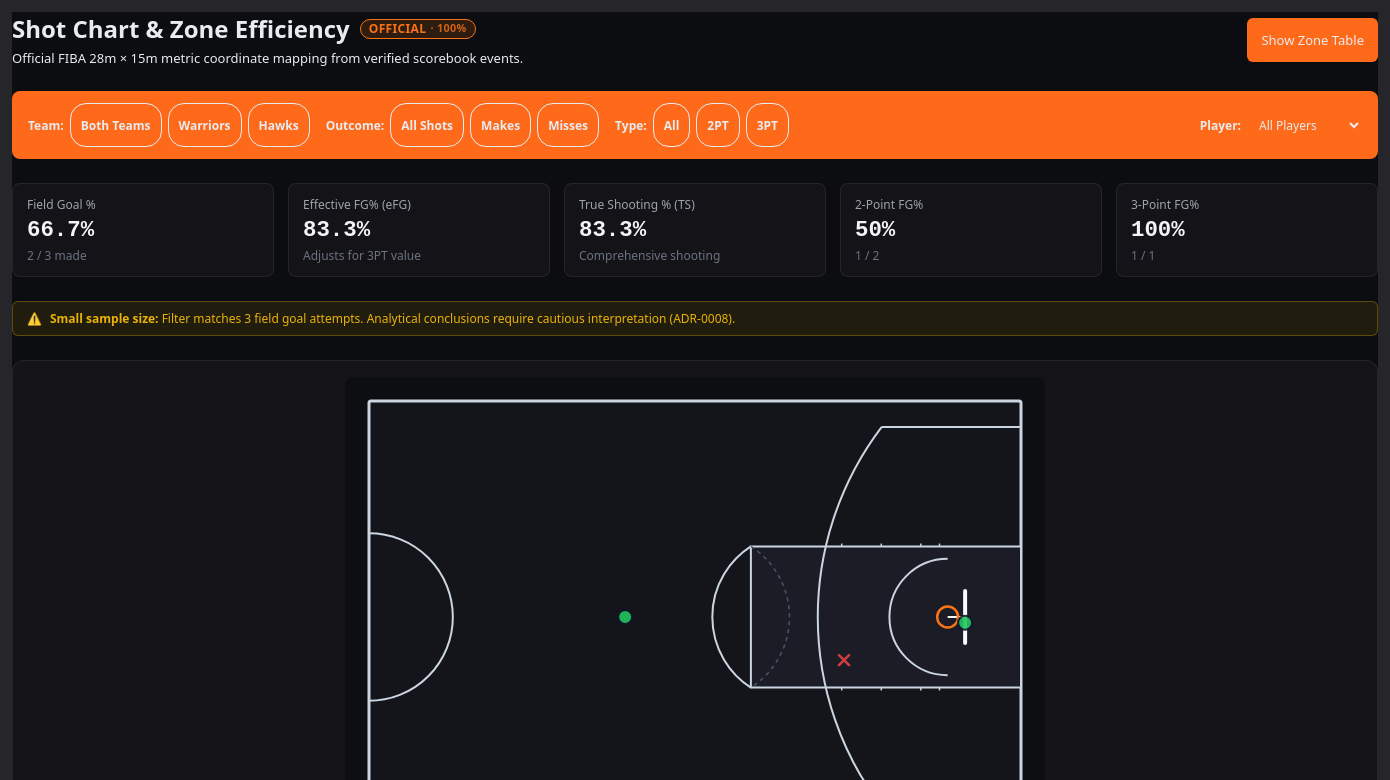
it: ShotChartView component (WP-3.4) › filters shots by team side
This screenshot has width=1390, height=780.
// Click Hawks button (away side)
Click the button "Hawks": (279, 125) 248,103 -> 310,147
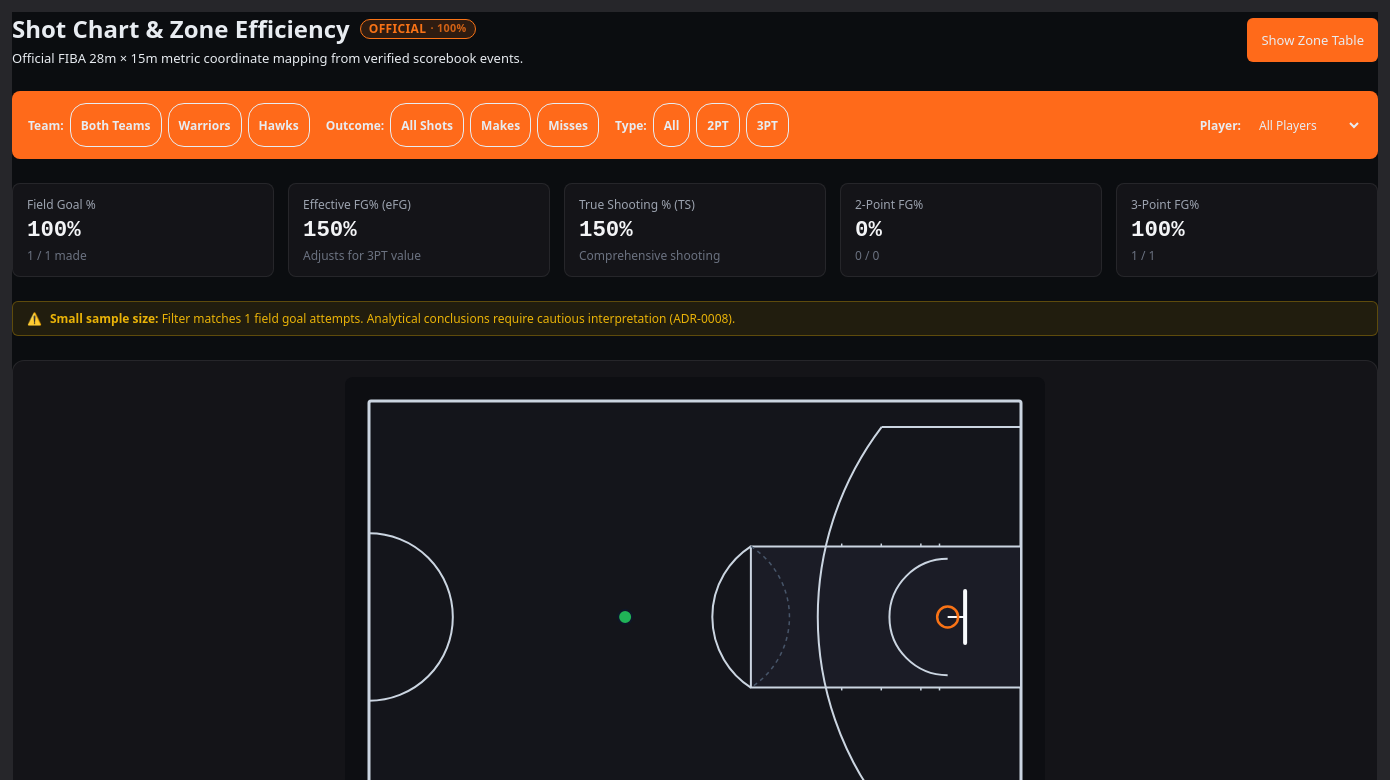
Now the text "1 / 1 made" is shown, box 27,247 -> 87,264
